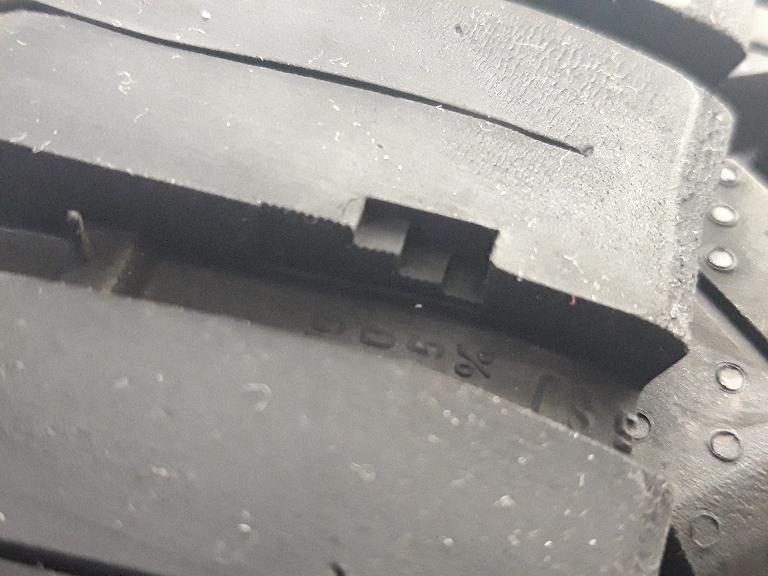temoin:75: (303, 184, 510, 326)
